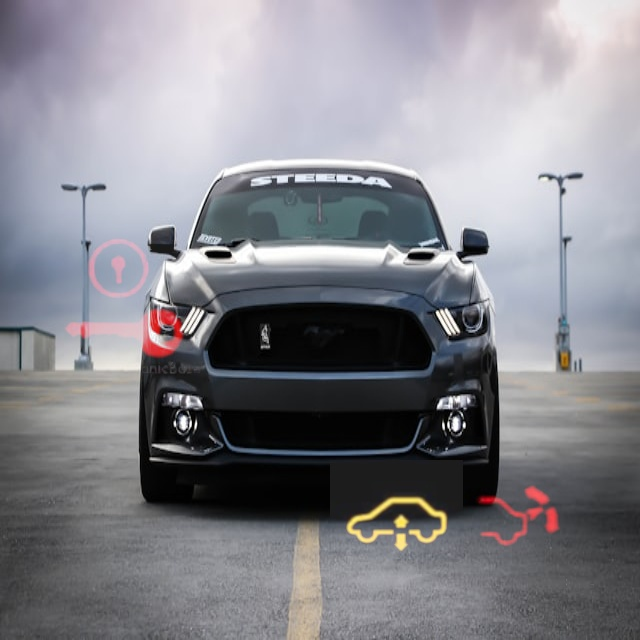symbol: (39, 214, 207, 382), (440, 437, 601, 598), (330, 460, 463, 593)
